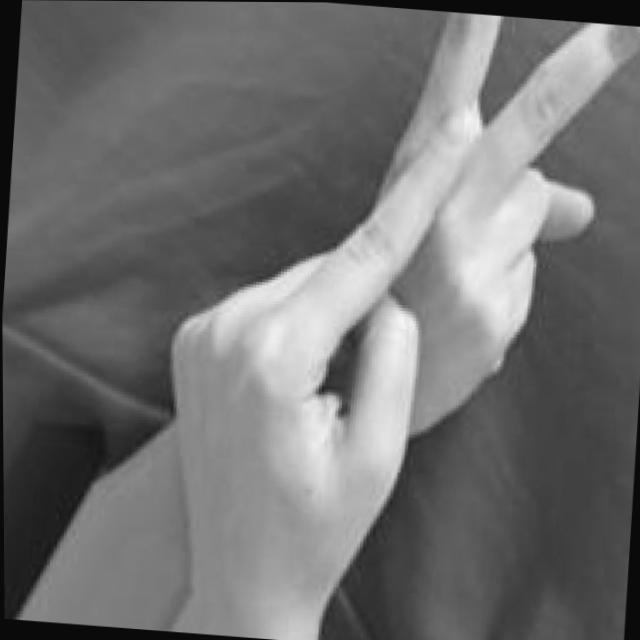Y: (154, 1, 640, 627)
